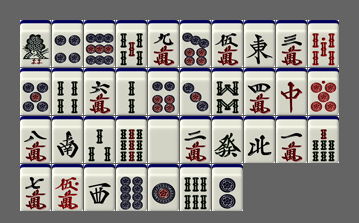0m: (52, 164, 83, 211)
0p: (308, 68, 339, 115)
0s: (308, 20, 339, 67)
1m: (276, 116, 307, 163)
1p: (148, 164, 179, 211)
1s: (20, 20, 51, 67)
1z: (244, 20, 275, 67)
2m: (180, 116, 211, 163)
2p: (212, 164, 243, 211)
2s: (116, 68, 147, 115)
2z: (52, 116, 83, 163)
3m: (276, 20, 307, 67)
3p: (180, 68, 211, 115)
3s: (84, 116, 115, 163)
3z: (84, 164, 115, 211)
4m: (244, 68, 275, 115)
4p: (52, 20, 83, 67)
4s: (52, 68, 83, 115)
4z: (244, 116, 275, 163)
5m: (212, 20, 243, 67)
5p: (20, 68, 51, 115)
5s: (116, 20, 147, 67)
5z: (148, 116, 179, 163)
6m: (84, 68, 115, 115)
6p: (148, 68, 179, 115)
6s: (180, 164, 211, 211)
6z: (212, 116, 243, 163)
7m: (20, 164, 51, 211)
7p: (180, 20, 211, 67)
7s: (308, 116, 339, 163)
7z: (276, 68, 307, 115)
8m: (20, 116, 51, 163)
8p: (116, 164, 147, 211)
8s: (212, 68, 243, 115)
9m: (148, 20, 179, 67)
9p: (84, 20, 115, 67)
9s: (116, 116, 147, 163)
